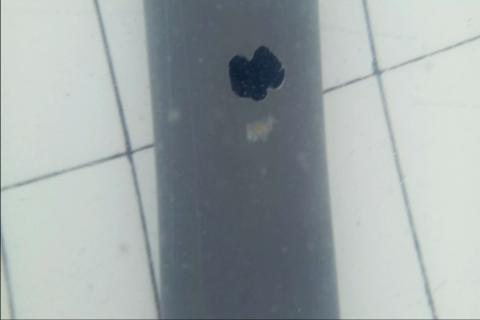kebocoran: (226, 43, 286, 103)
